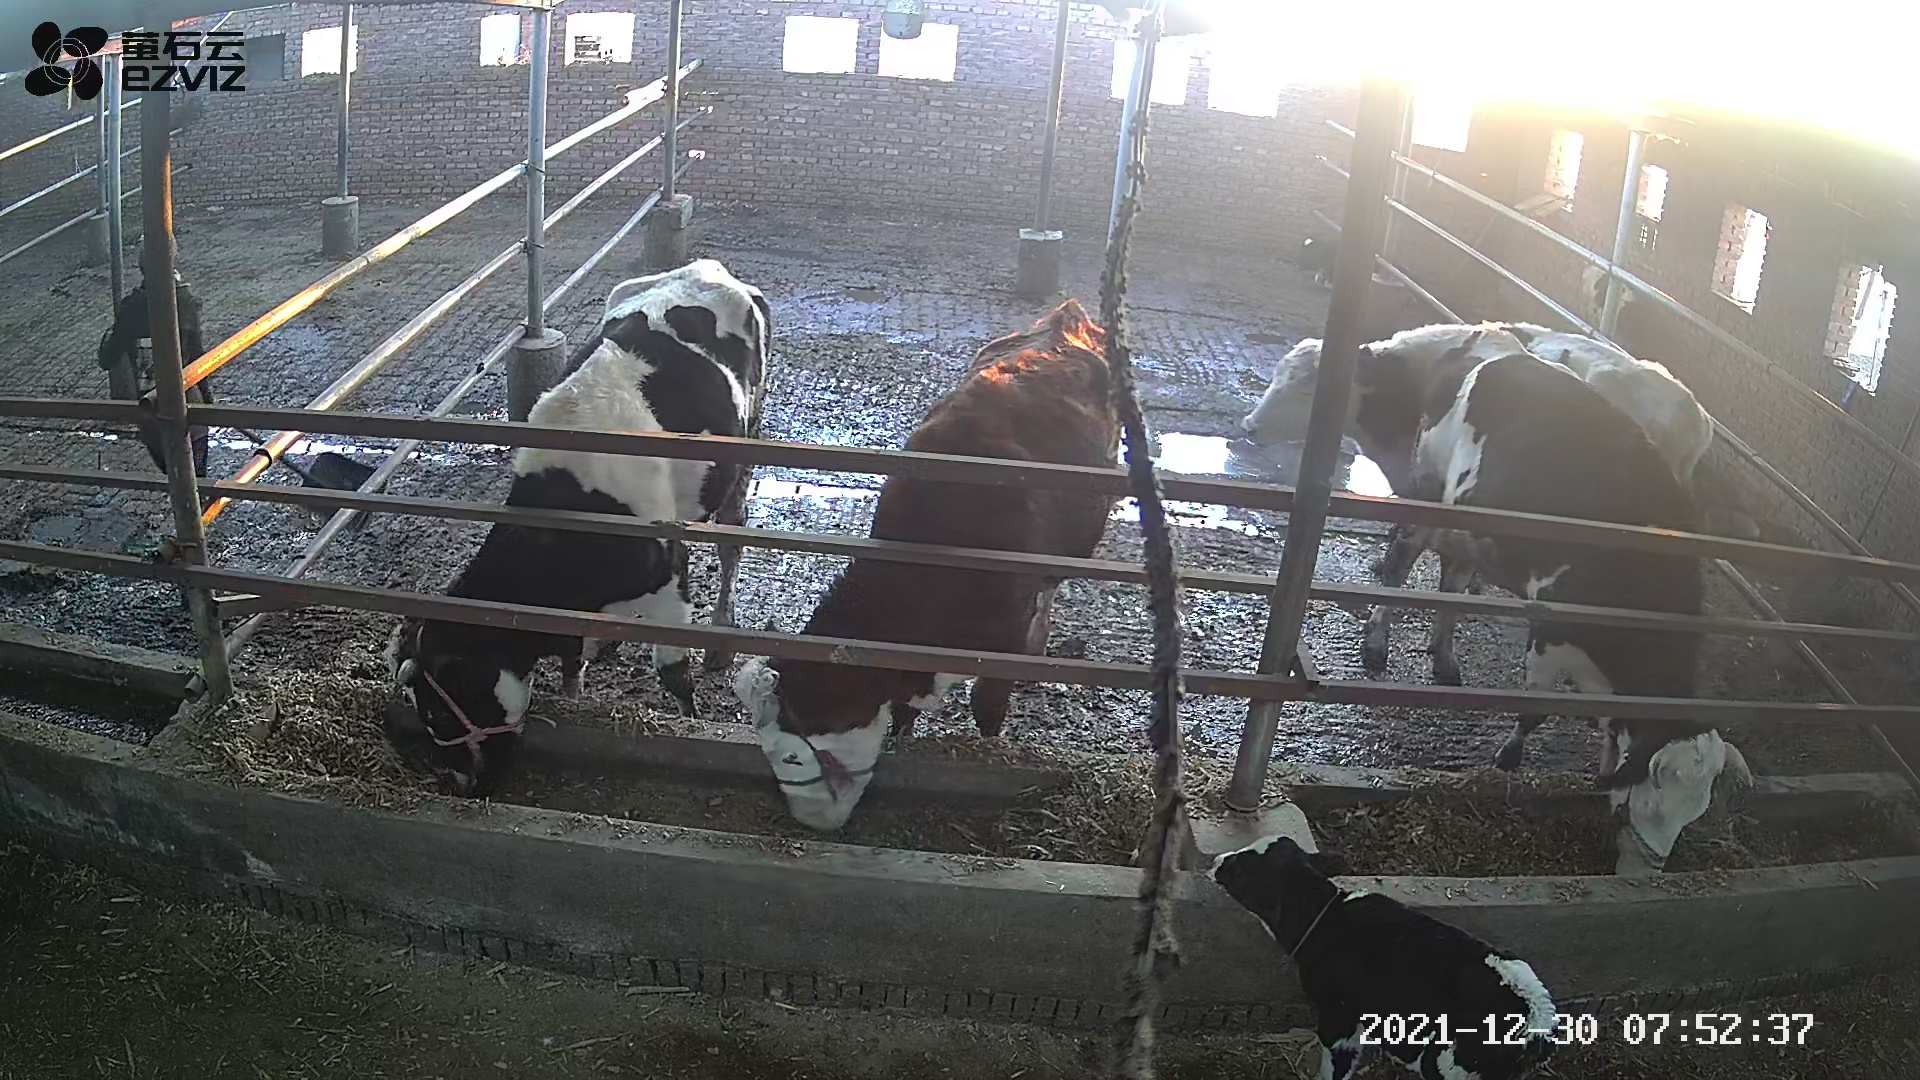cow: (1360, 316, 1756, 877), (377, 256, 771, 800), (729, 295, 1124, 835), (1237, 318, 1716, 502)
